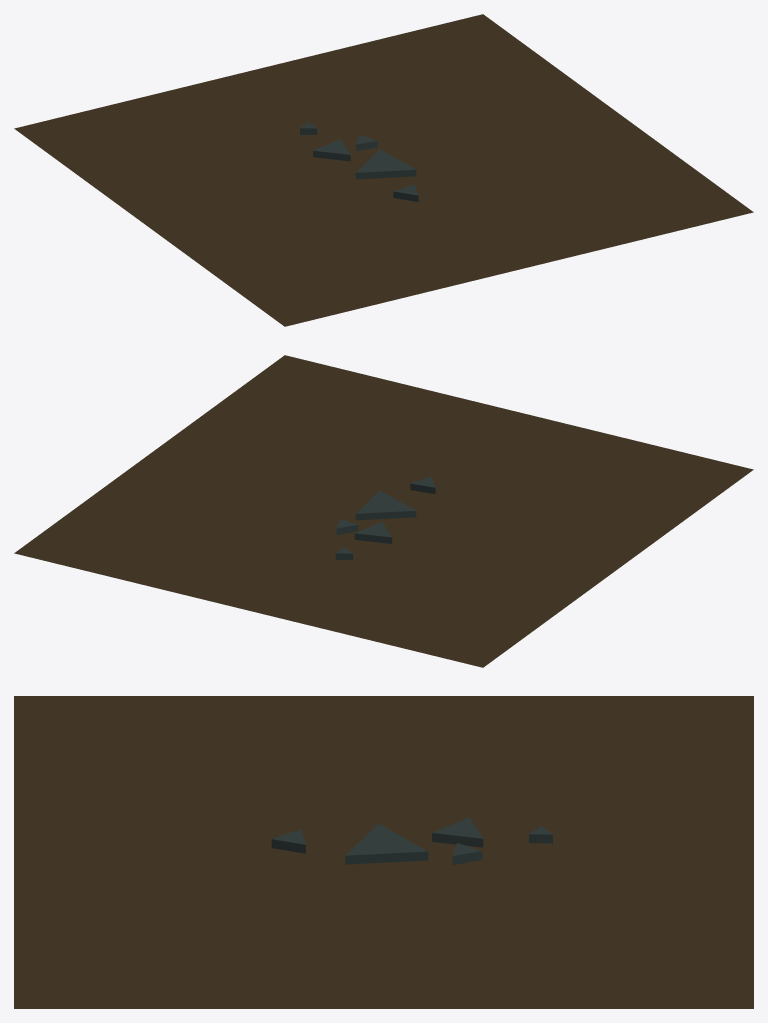
Rendered from Floor.006.fbx.
3 views of the same model, one above another, from view 1: azimuth 30°, elevation 25°; view 2: azimuth 150°, elevation 25°; view 3: azimuth 270°, elevation 25° (orthographic). The views are drawn at different scales.
Visible parts, largest first — view 1: Floor.006; view 2: Floor.006; view 3: Floor.006.
Boxes of the visible parts, left/top/right/bottom form: Floor.006: left=14, top=14, right=753, bottom=326; Floor.006: left=14, top=355, right=753, bottom=667; Floor.006: left=14, top=696, right=753, bottom=1008.
Bounding box in the file's own units: 100 × 2.68 × 100.
